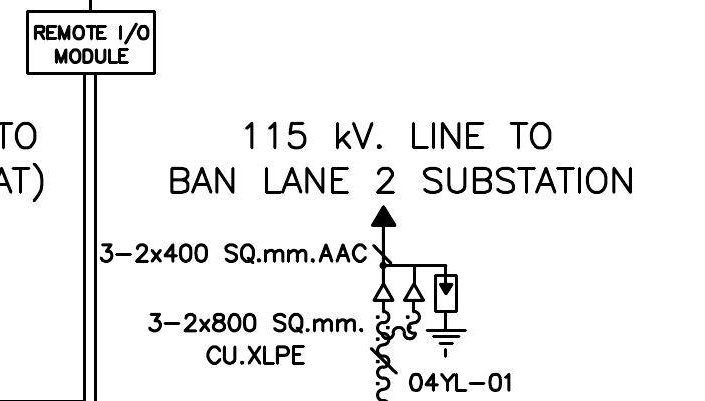115_la: (425, 273, 468, 359)
remote_io_module: (25, 10, 156, 76)
terminator_double: (371, 263, 426, 303)
